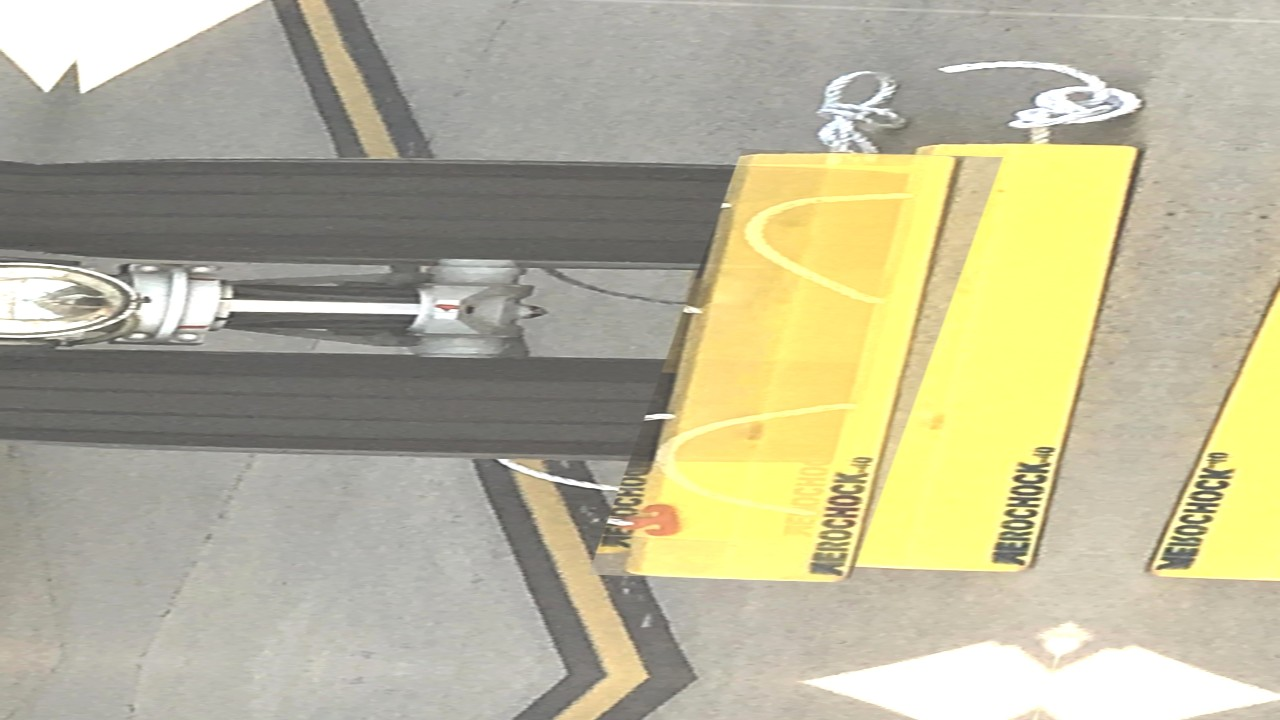chock: (588, 149, 1003, 583), (770, 140, 1185, 573), (604, 159, 941, 545), (1144, 152, 1280, 585)
wheel: (11, 145, 918, 285), (0, 338, 865, 472)
